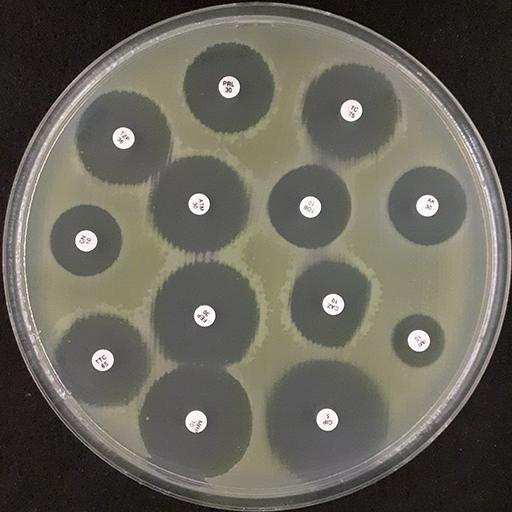disc: (74, 229, 99, 253), (217, 75, 241, 99), (112, 126, 136, 150), (315, 408, 339, 432), (340, 98, 363, 123), (415, 194, 440, 217), (188, 192, 211, 216), (299, 195, 322, 219), (91, 349, 115, 372), (407, 329, 431, 352), (184, 410, 208, 433), (193, 304, 216, 327), (322, 293, 345, 316)
